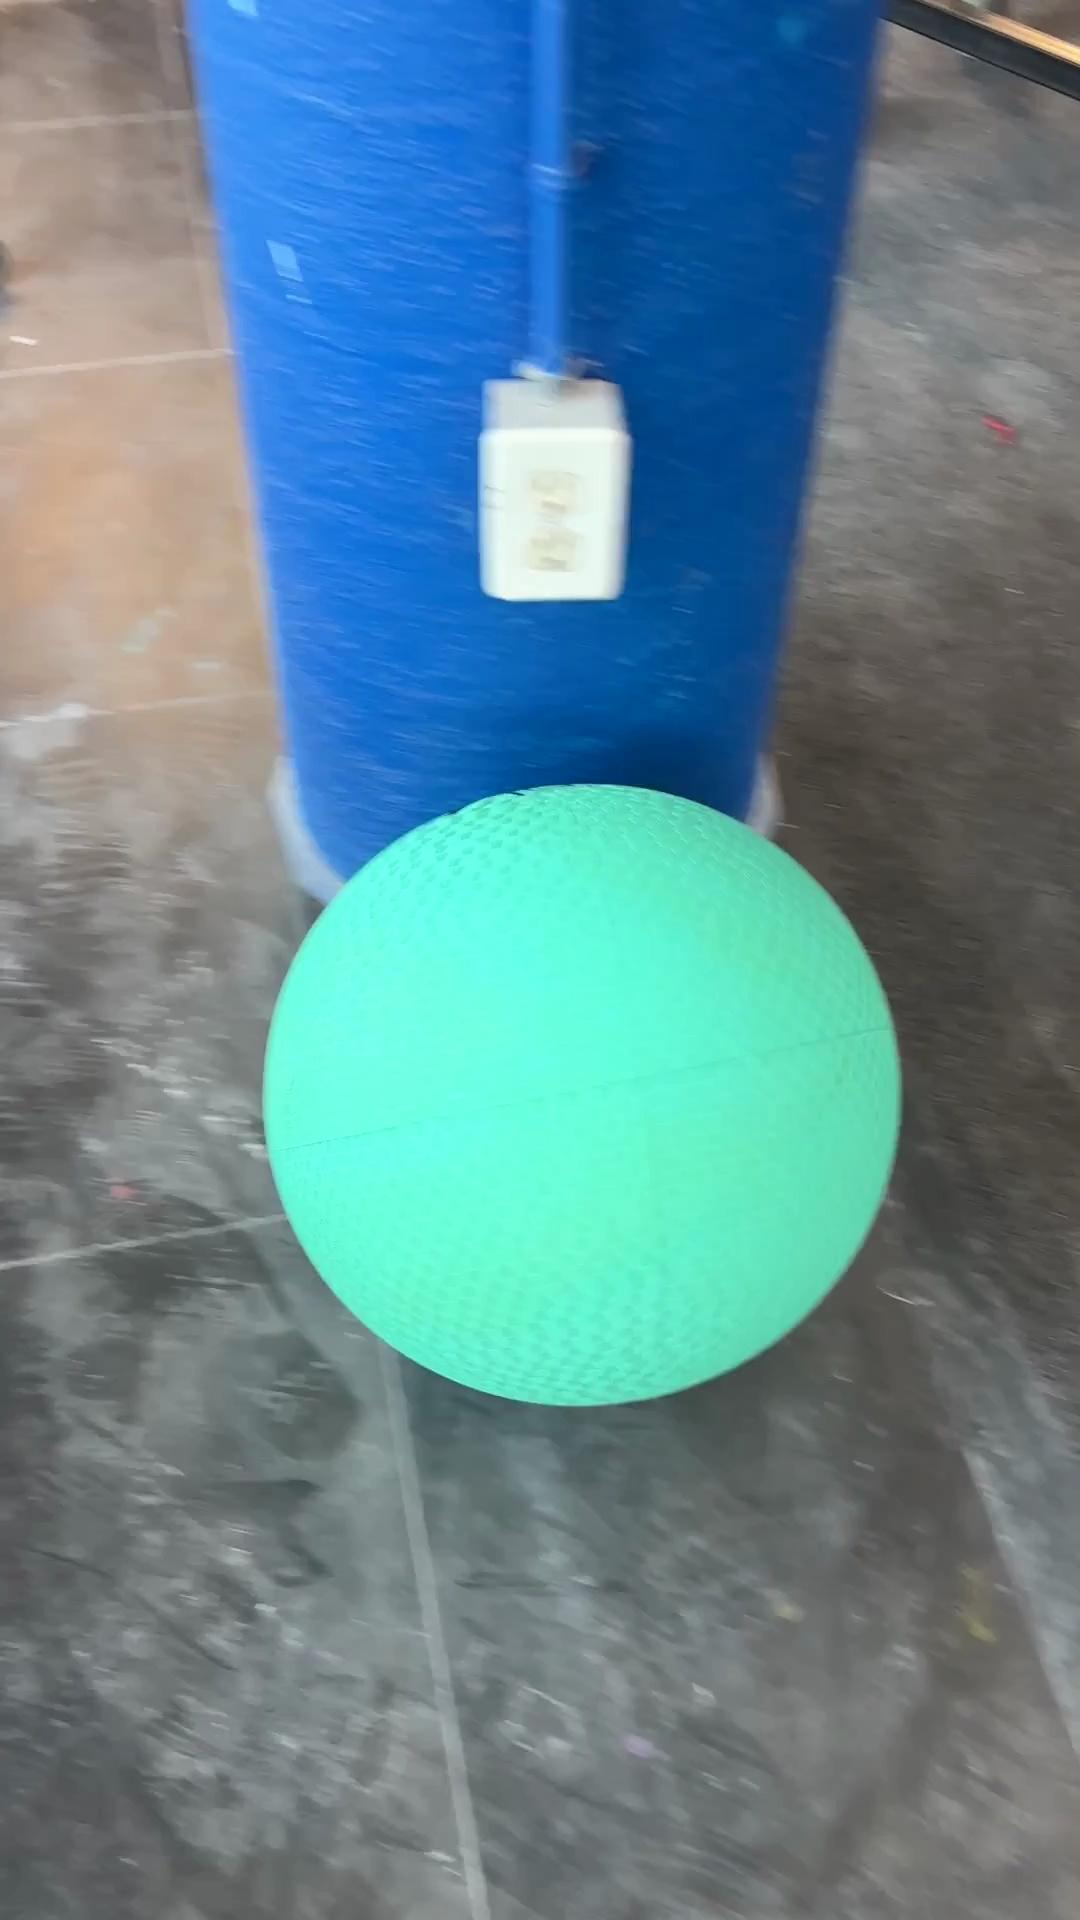ALGAE: (258, 779, 905, 1410)
